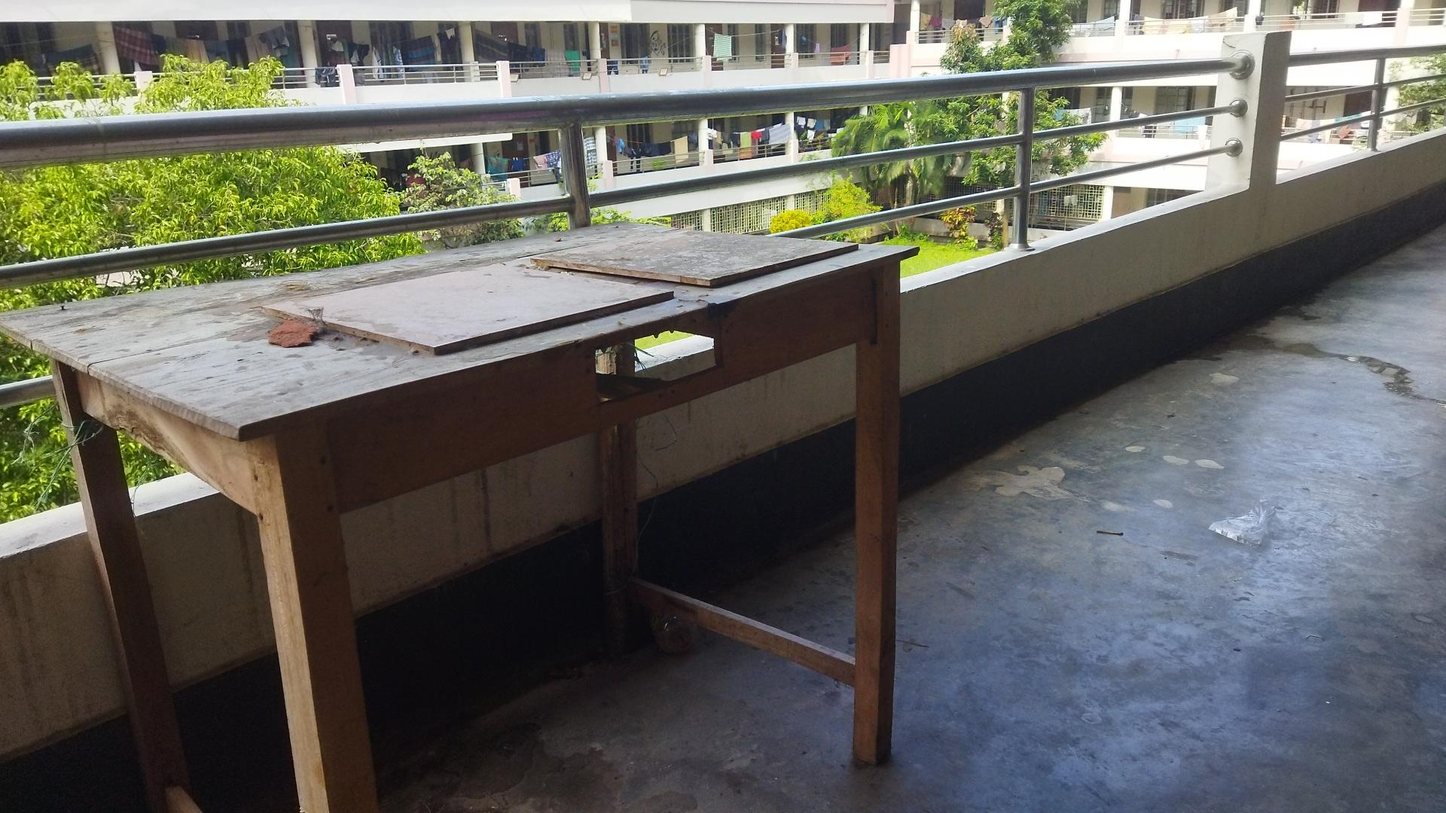Table: (17, 155, 980, 813)
